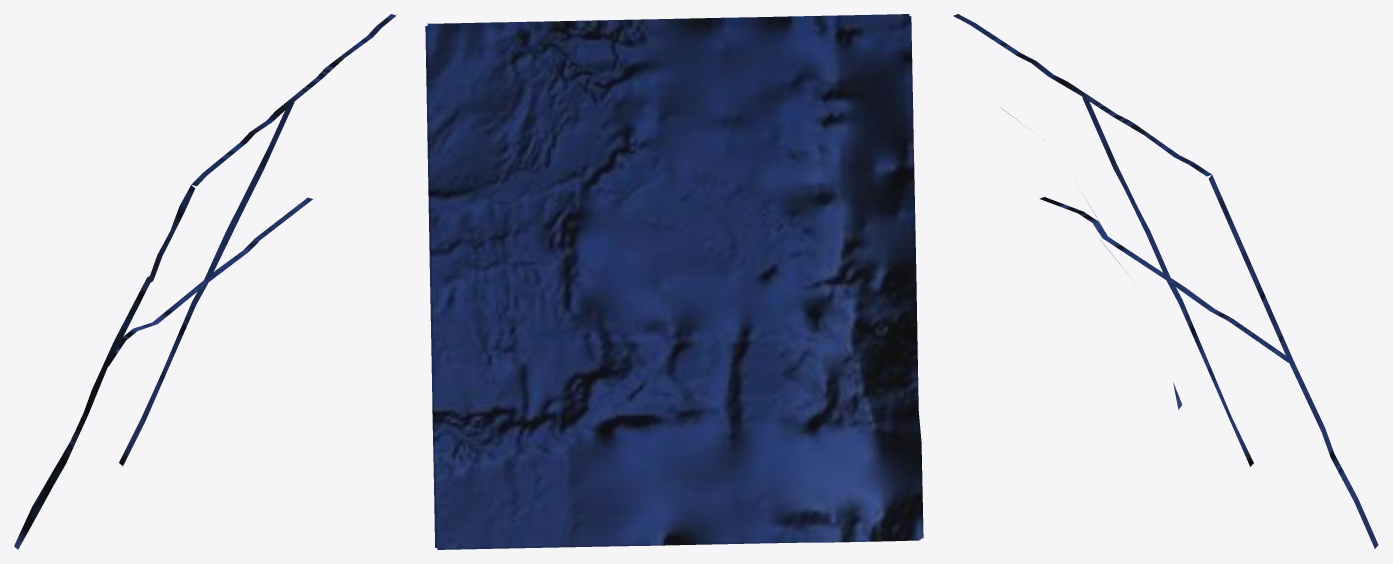
3 views of the same model, side by side, from view 1: azimuth 30°, elevation 25°; view 2: azimuth 150°, elevation 25°; view 3: azimuth 270°, elevation 25° (orthographic). The views are drawn at different scales.
Size of the model in its own units: 78700 by 72599 by 66742.
1 material, 1 textured.
